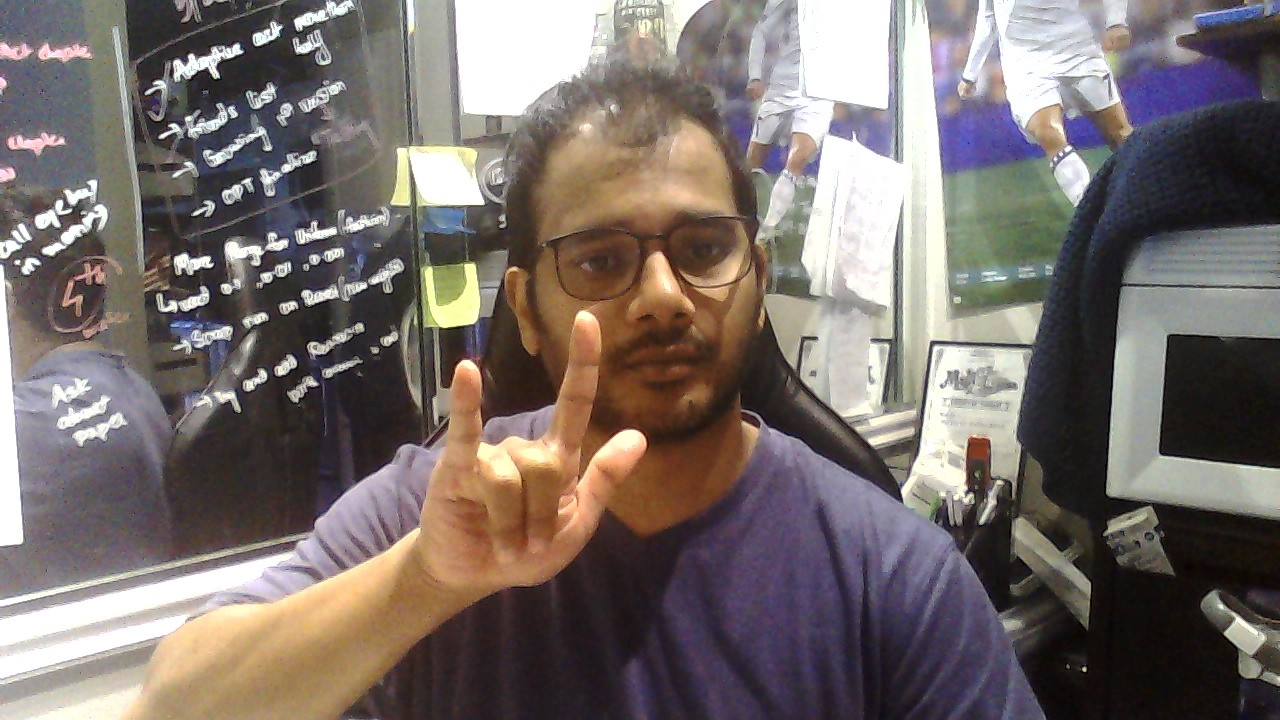ILoveYou: (420, 310, 648, 588)
